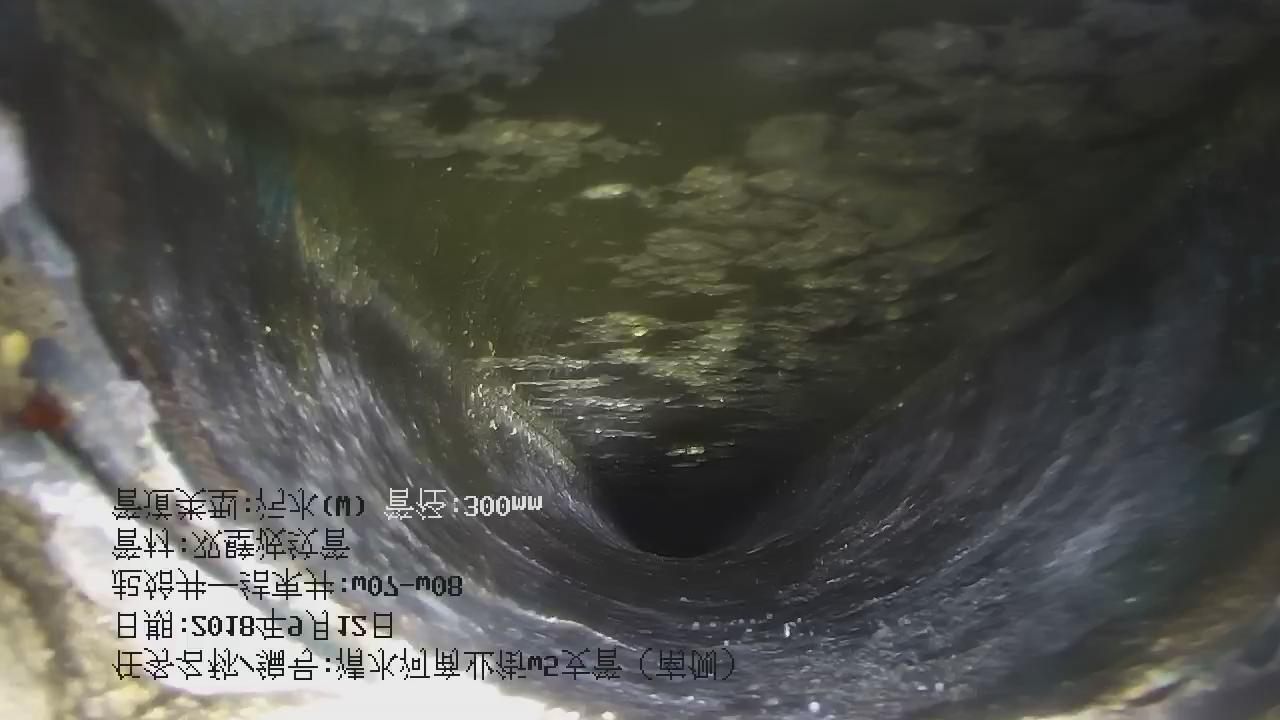FZ: (165, 1, 1279, 489)
